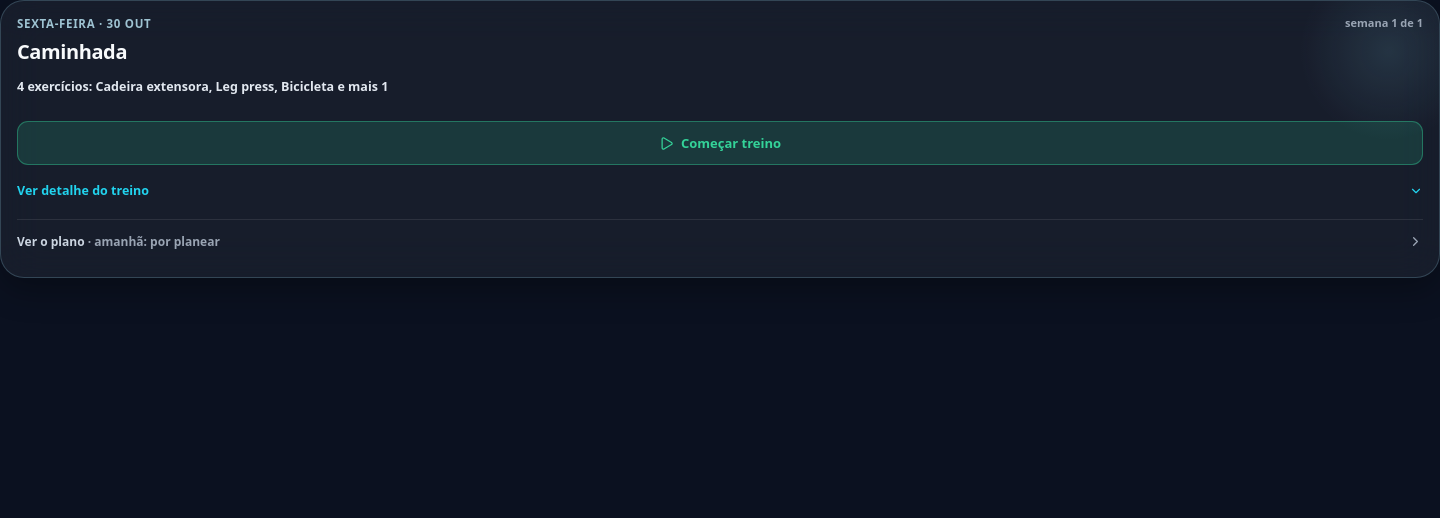
Test: DayPlanCard (O que faço hoje) — exercícios do ginásio › o resumo está à vista e a gaveta mostra a lista completa
Click the button with test id "day-plan-exercicios-resumo". click: (203, 86)
box: 17,65 -> 1423,109
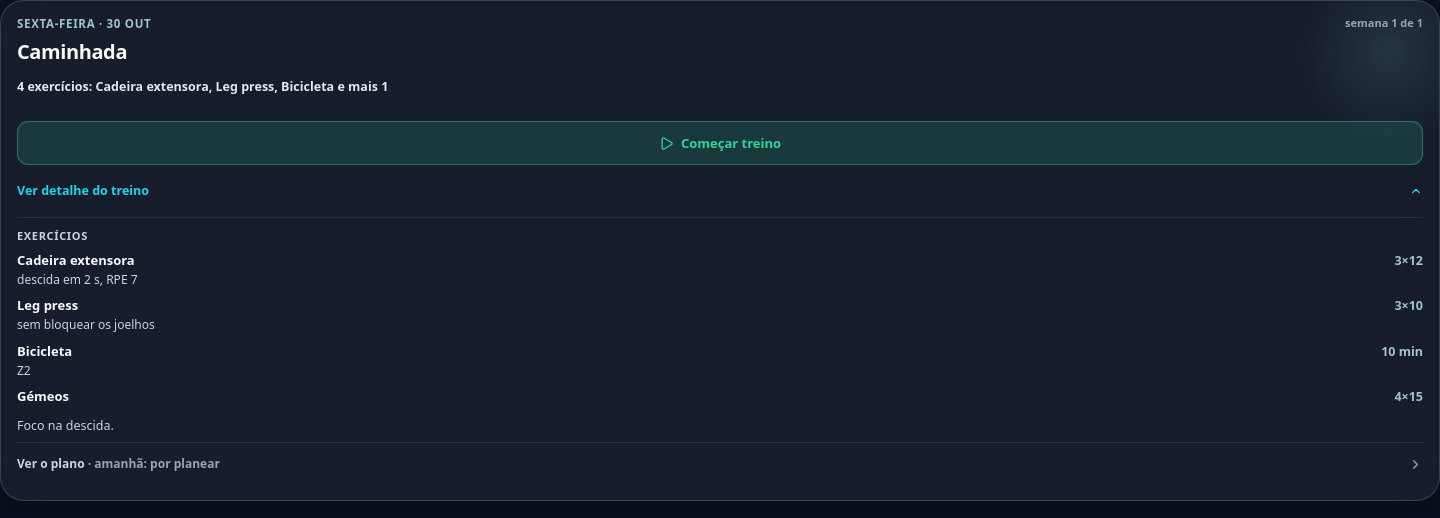
Now the button with test id "day-plan-detail-toggle" is expanded, box 17,169 -> 1423,213
Now the number of list items with test id "day-plan-exercicios-item" is 4, box 17,251 -> 1423,288; 17,296 -> 1423,334; 17,342 -> 1423,379; 17,387 -> 1423,407
Now the text with test id "day-plan-notes" reads "Foco na descida.", box 17,417 -> 114,434
